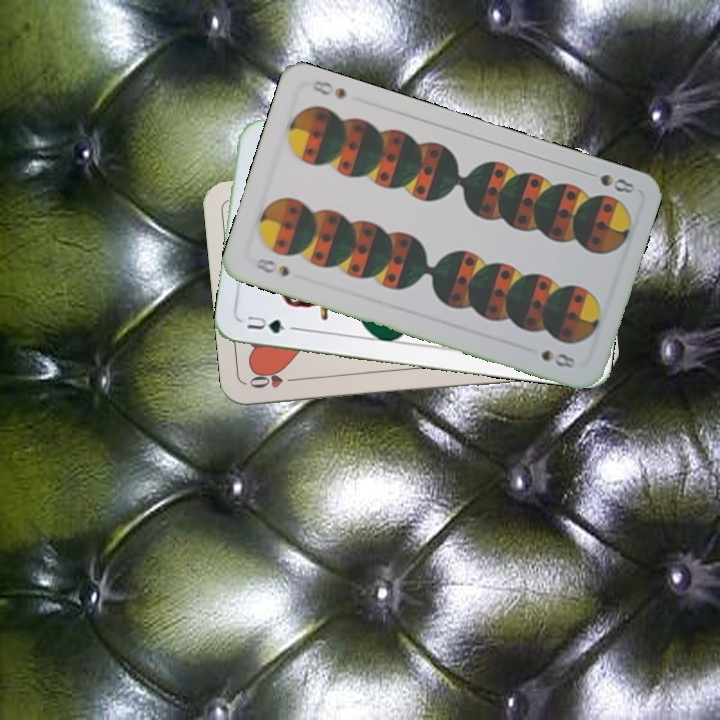GU: (243, 312, 298, 336)
HO: (245, 370, 304, 391)
S8: (580, 166, 638, 196), (249, 254, 292, 279)
